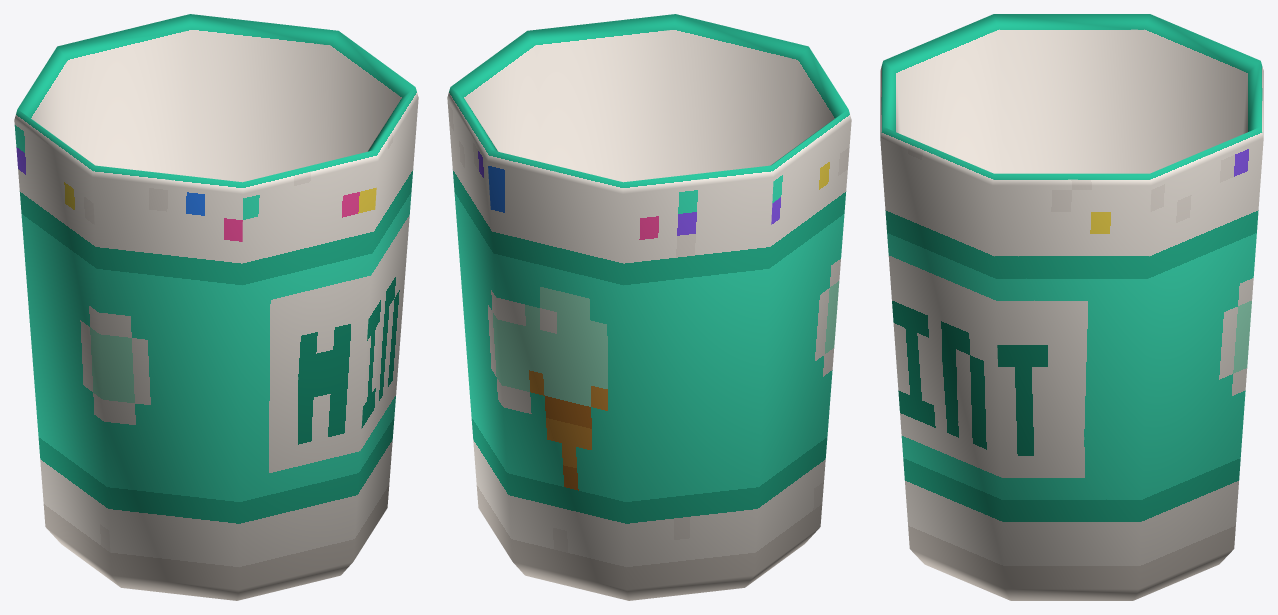
File: Pint Mint Empty.fbx
3 renders of one model, left to right at view 1: azimuth 30°, elevation 25°; view 2: azimuth 150°, elevation 25°; view 3: azimuth 270°, elevation 25°, orthographic.
Parts seen in each view (by area): view 1: Pint Mint Empty carton; view 2: Pint Mint Empty carton; view 3: Pint Mint Empty carton.
Part boxes in pixels (bbox=[...]): Pint Mint Empty carton: bbox=[14, 14, 418, 600]; Pint Mint Empty carton: bbox=[447, 14, 851, 600]; Pint Mint Empty carton: bbox=[880, 14, 1263, 600].
Bounding box in the file's own units: 0.0961 × 0.123 × 0.0961.
Materials: 2 (2 with a texture image).
